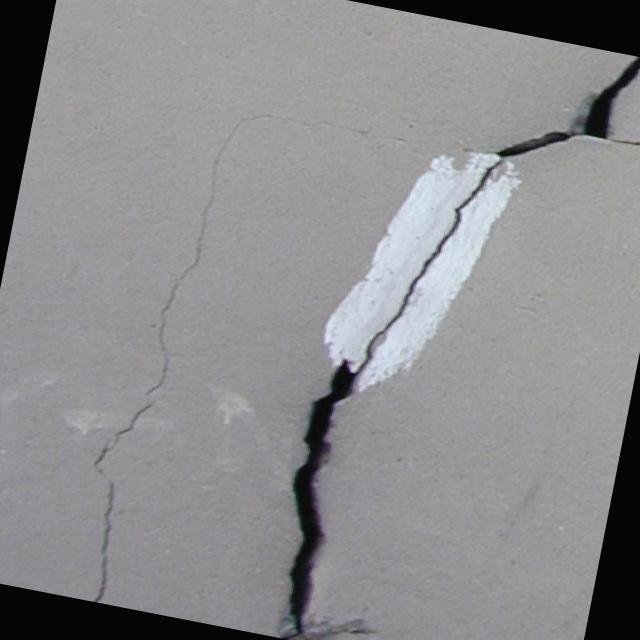crack: (64, 82, 264, 614), (263, 338, 372, 640), (364, 146, 502, 365), (483, 31, 640, 196), (262, 102, 419, 148)
